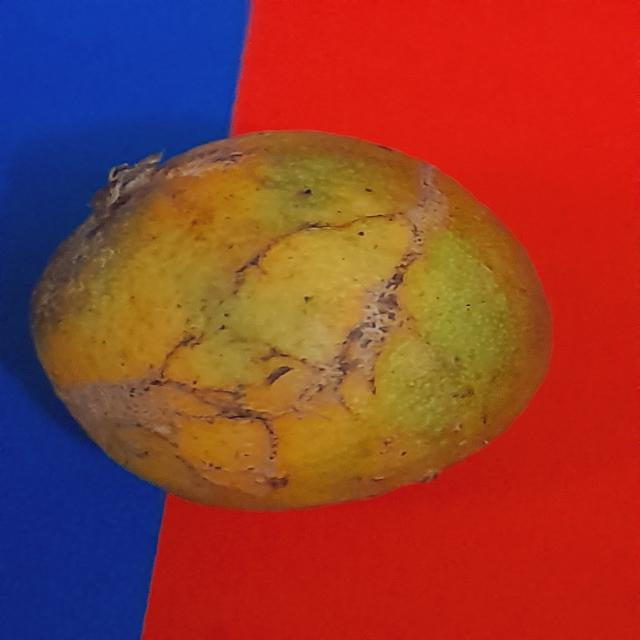thrips: (53, 134, 557, 522)
